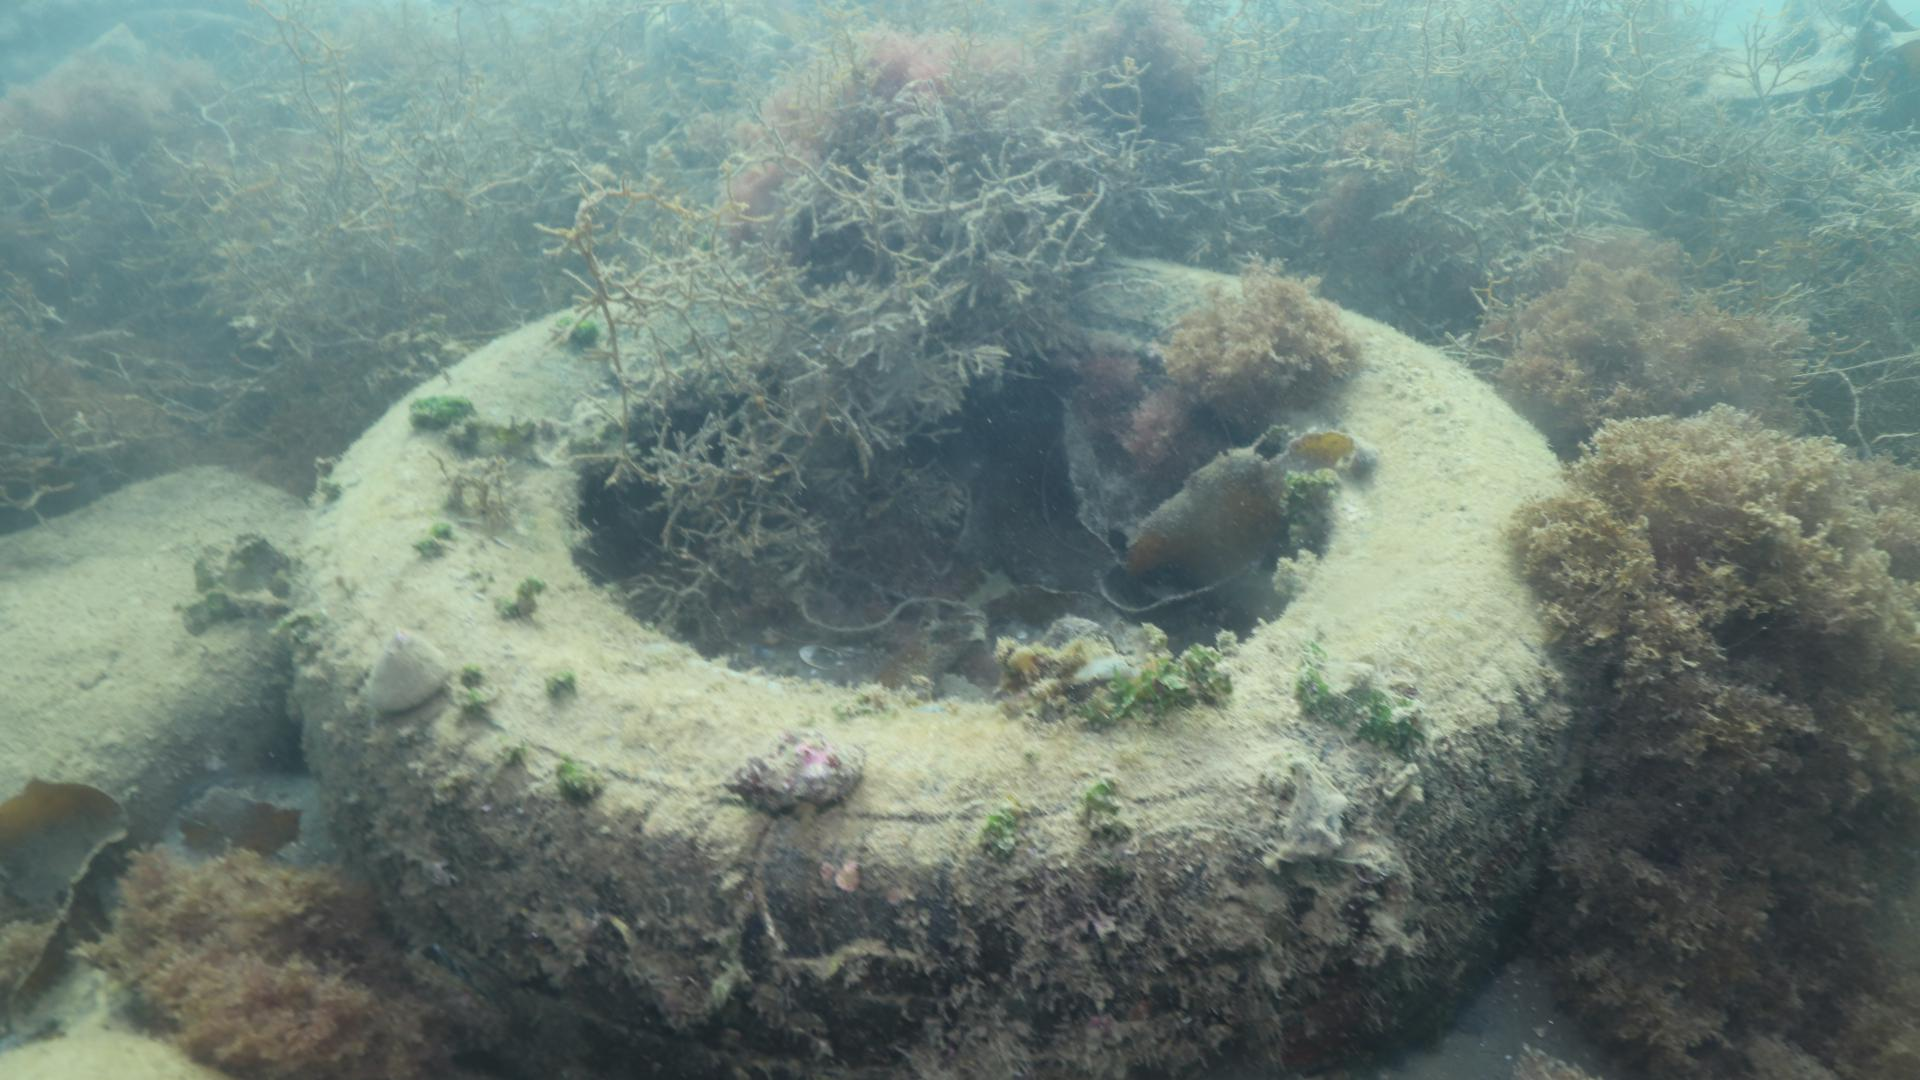tire: (291, 251, 1569, 1077)
